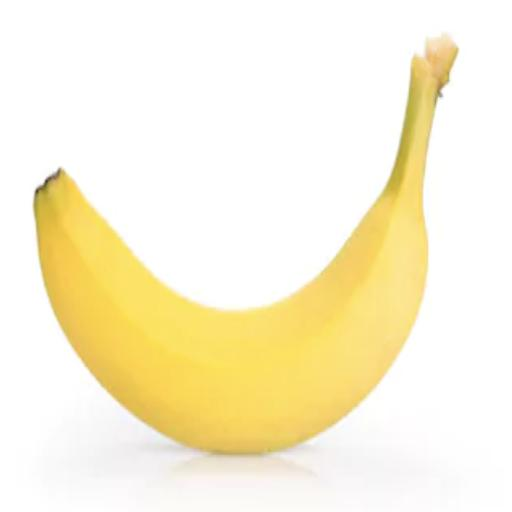banana: (35, 36, 457, 453)
